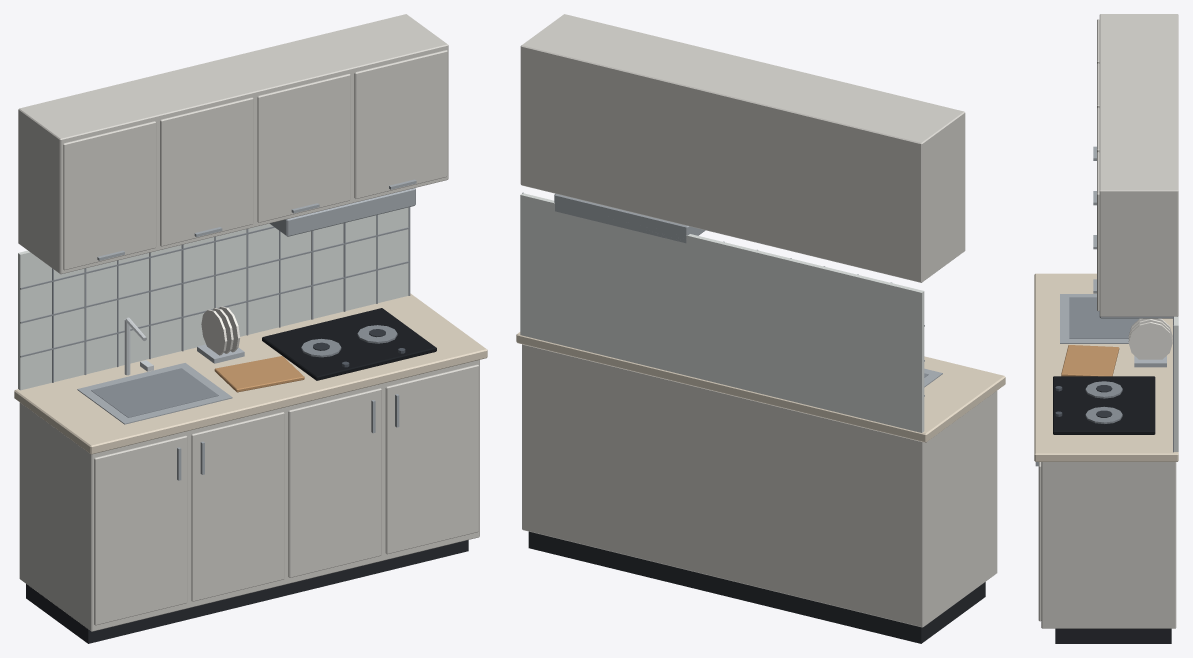
File: kitchenette.glb
3 renders of one model, left to right at view 1: azimuth 30°, elevation 25°; view 2: azimuth 150°, elevation 25°; view 3: azimuth 270°, elevation 25°, orthographic. The views are drawn at different scales.
Parts seen in each view (by area): view 1: Kitchenette; view 2: Kitchenette; view 3: Kitchenette.
Boxes of the visible parts, x1,y1,x2,y2 form: Kitchenette: [14, 14, 487, 643]; Kitchenette: [516, 14, 1005, 643]; Kitchenette: [1034, 14, 1178, 643].
Size of the model in its own units: 1.84 by 2.16 by 0.62.
